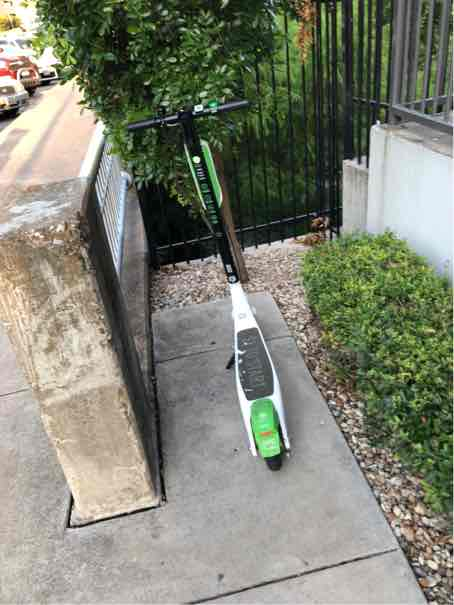scooter: (120, 85, 303, 478)
